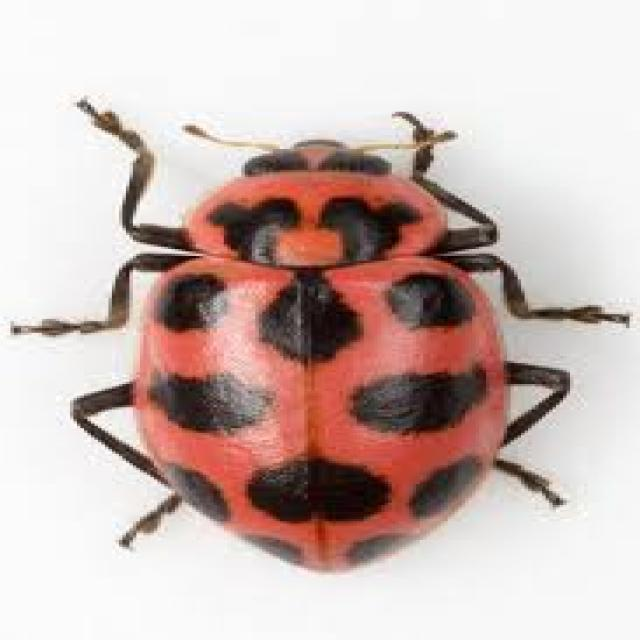bug: (11, 85, 640, 578)
